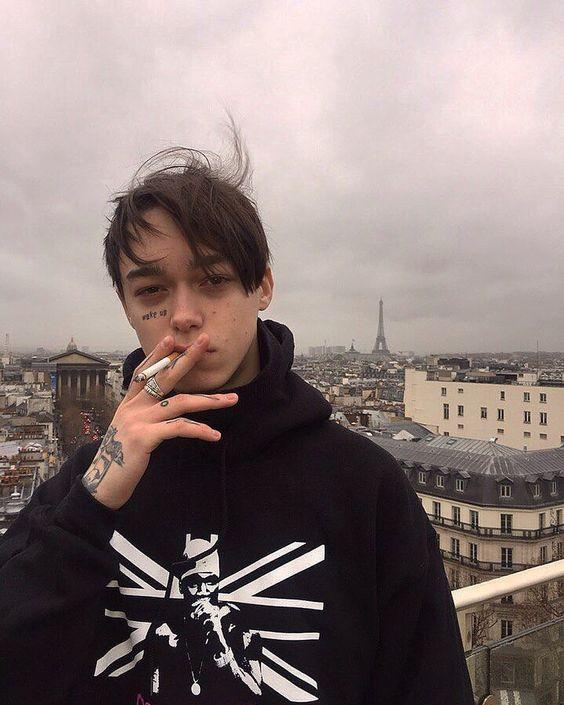cigarette: (133, 351, 181, 383)
